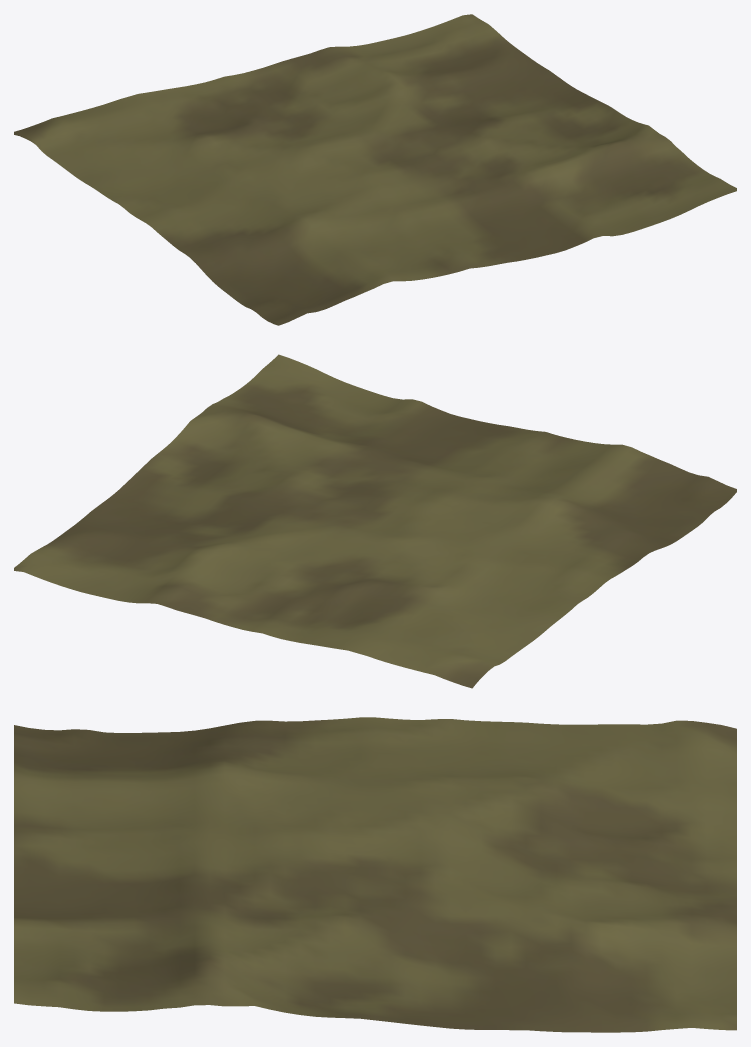
File: land_m_12_10.glb
The picture shows the model from 3 angles, top to bottom: view 1: azimuth 30°, elevation 25°; view 2: azimuth 150°, elevation 25°; view 3: azimuth 270°, elevation 25°; orthographic projection. The views are drawn at different scales.
Visible parts, largest first — view 1: land_m_12_10; view 2: land_m_12_10; view 3: land_m_12_10.
Part boxes in pixels (x1=…): land_m_12_10: x1=14, y1=14, x2=736, y2=325; land_m_12_10: x1=14, y1=354, x2=736, y2=688; land_m_12_10: x1=14, y1=717, x2=736, y2=1032.
Size of the model in its own units: 960 by 70.25 by 960.
